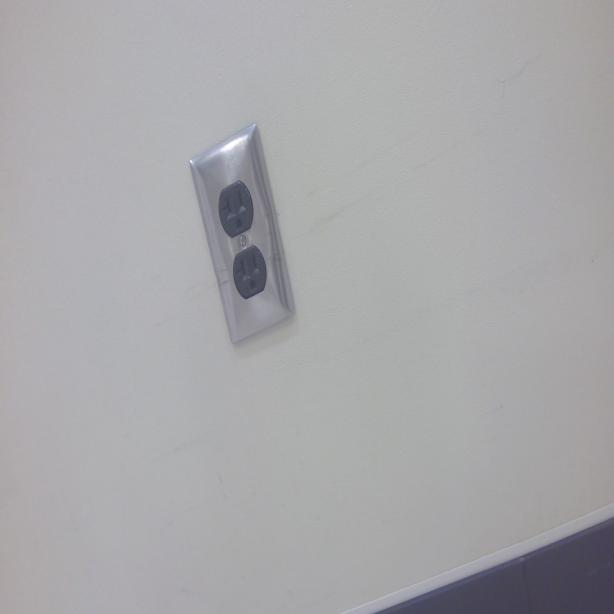typeb: (220, 182, 252, 235), (234, 247, 264, 297)
